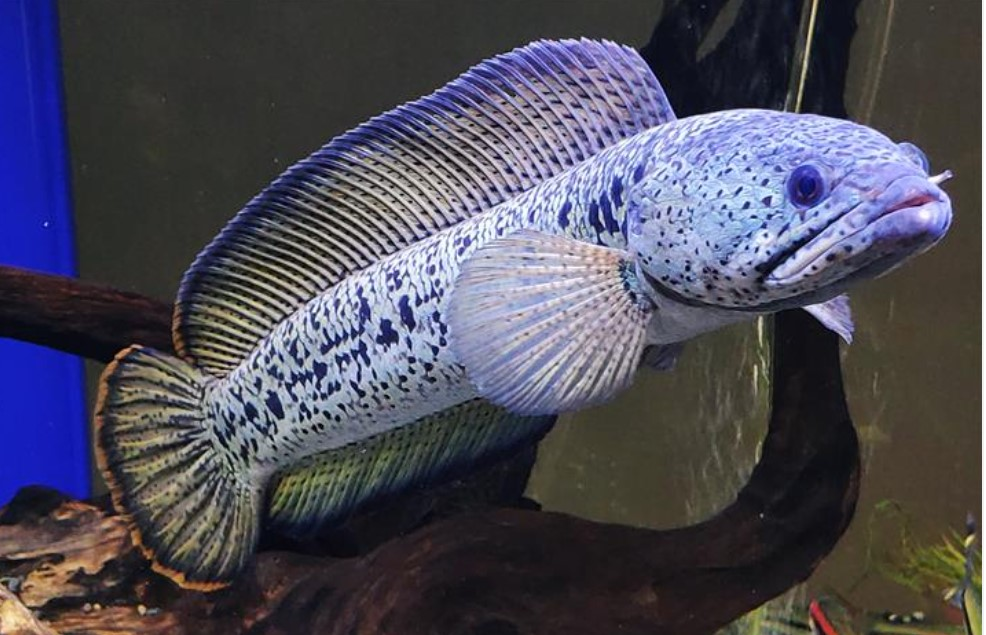Fish: (85, 32, 962, 604)
